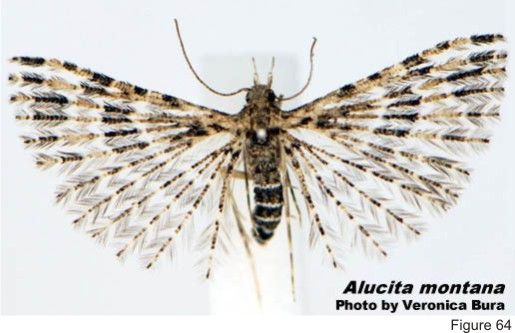Alucitidae: (3, 10, 508, 299)
moth: (5, 12, 510, 301)
